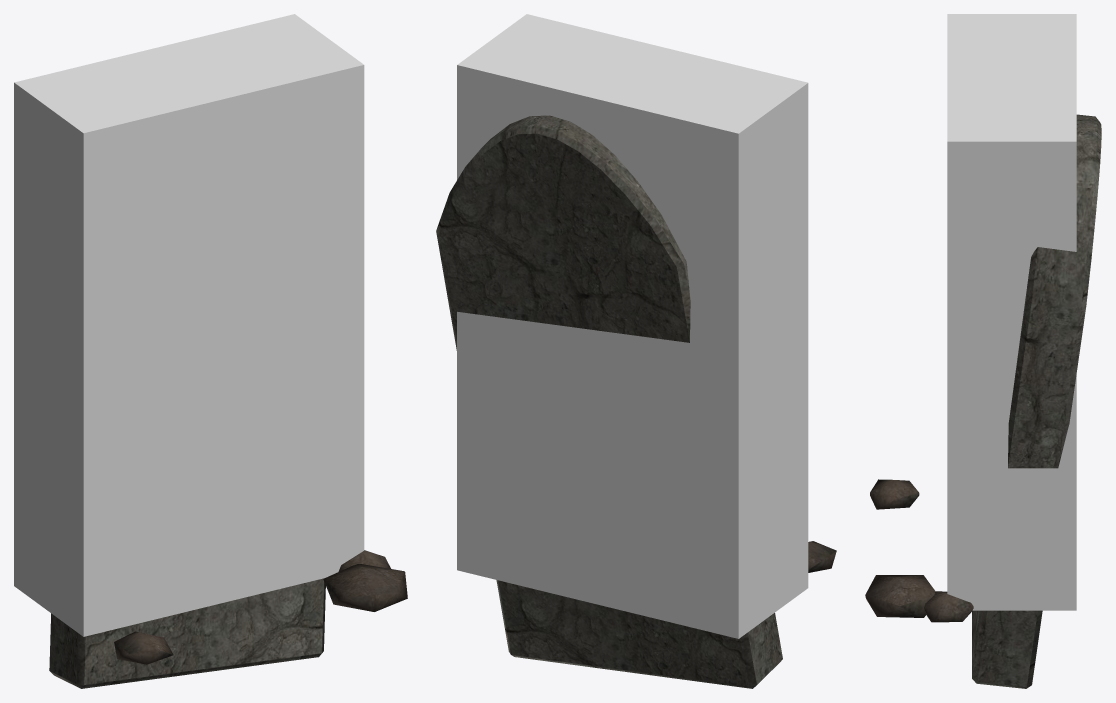
File: tombstone_gothic_v1.glb
3 views of the same model, side by side, from view 1: azimuth 30°, elevation 25°; view 2: azimuth 150°, elevation 25°; view 3: azimuth 270°, elevation 25° (orthographic). The views are drawn at different scales.
Parts seen in each view (by area): view 1: col_tomb, stone, rb3, rb2; view 2: col_tomb, stone, rb2; view 3: col_tomb, stone, rb3, rb2, rb0.
Part boxes in pixels (box(x1,y1,x2,y2)): col_tomb: box(14, 14, 364, 636); stone: box(49, 578, 325, 688); rb3: box(323, 564, 407, 611); rb2: box(114, 631, 173, 664); col_tomb: box(457, 14, 808, 638); stone: box(436, 115, 782, 688); rb2: box(808, 541, 836, 572); col_tomb: box(947, 14, 1076, 610); stone: box(972, 114, 1101, 688); rb3: box(865, 575, 935, 617); rb2: box(870, 479, 919, 509); rb0: box(924, 591, 973, 622).
Bounding box in the file's own units: 0.7518 × 1.44 × 0.5483.
Materials: 6 (6 with a texture image).
